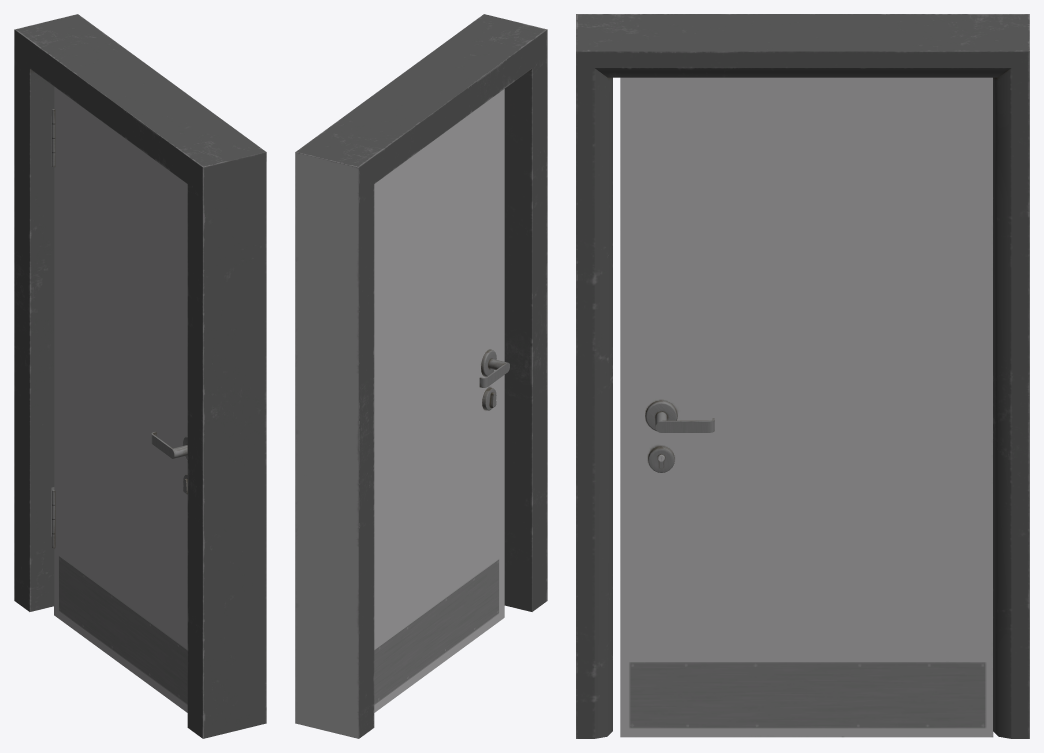
The model's file is door_-_poppy_playtime.glb.
3 renders of one model, left to right at view 1: azimuth 30°, elevation 25°; view 2: azimuth 150°, elevation 25°; view 3: azimuth 270°, elevation 25°, orthographic. The views are drawn at different scales.
Visible parts, largest first — view 1: door_a_frame, door_a_merged; view 2: door_a_frame, door_a_merged; view 3: door_a_merged, door_a_frame.
Boxes of the visible parts, left/top/right/bottom form: door_a_frame: left=14, top=14, right=266, bottom=738; door_a_merged: left=52, top=87, right=187, bottom=712; door_a_frame: left=295, top=14, right=547, bottom=738; door_a_merged: left=374, top=89, right=509, bottom=712; door_a_merged: left=620, top=77, right=993, bottom=737; door_a_frame: left=576, top=14, right=1029, bottom=738.
Bounding box in the file's own units: 0.5307 × 4.64 × 2.73.
2 materials, 2 textured.
